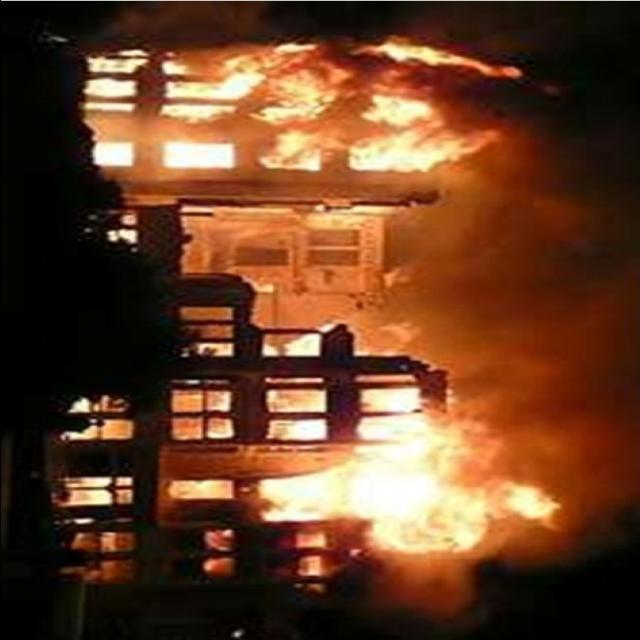Fire: (94, 22, 524, 572)
